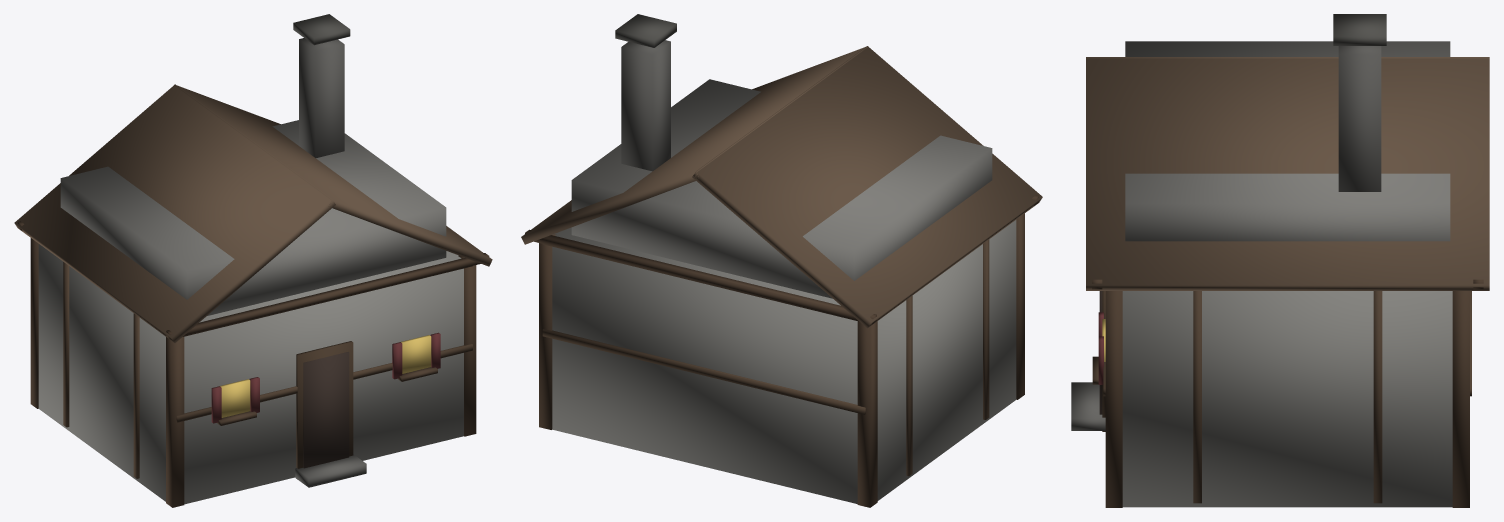
The model's file is house_stone.glb.
3 renders of one model, left to right at view 1: azimuth 30°, elevation 25°; view 2: azimuth 150°, elevation 25°; view 3: azimuth 270°, elevation 25°, orthographic. The views are drawn at different scales.
Visible parts, largest first — view 1: house_stone; view 2: house_stone; view 3: house_stone.
Boxes of the visible parts, x1,y1,x2,y2 form: house_stone: (14, 14, 492, 507); house_stone: (521, 14, 1042, 507); house_stone: (1071, 14, 1489, 507).
Size of the model in its own units: 5.54 by 5.78 by 4.87.
1 material, 1 textured.
